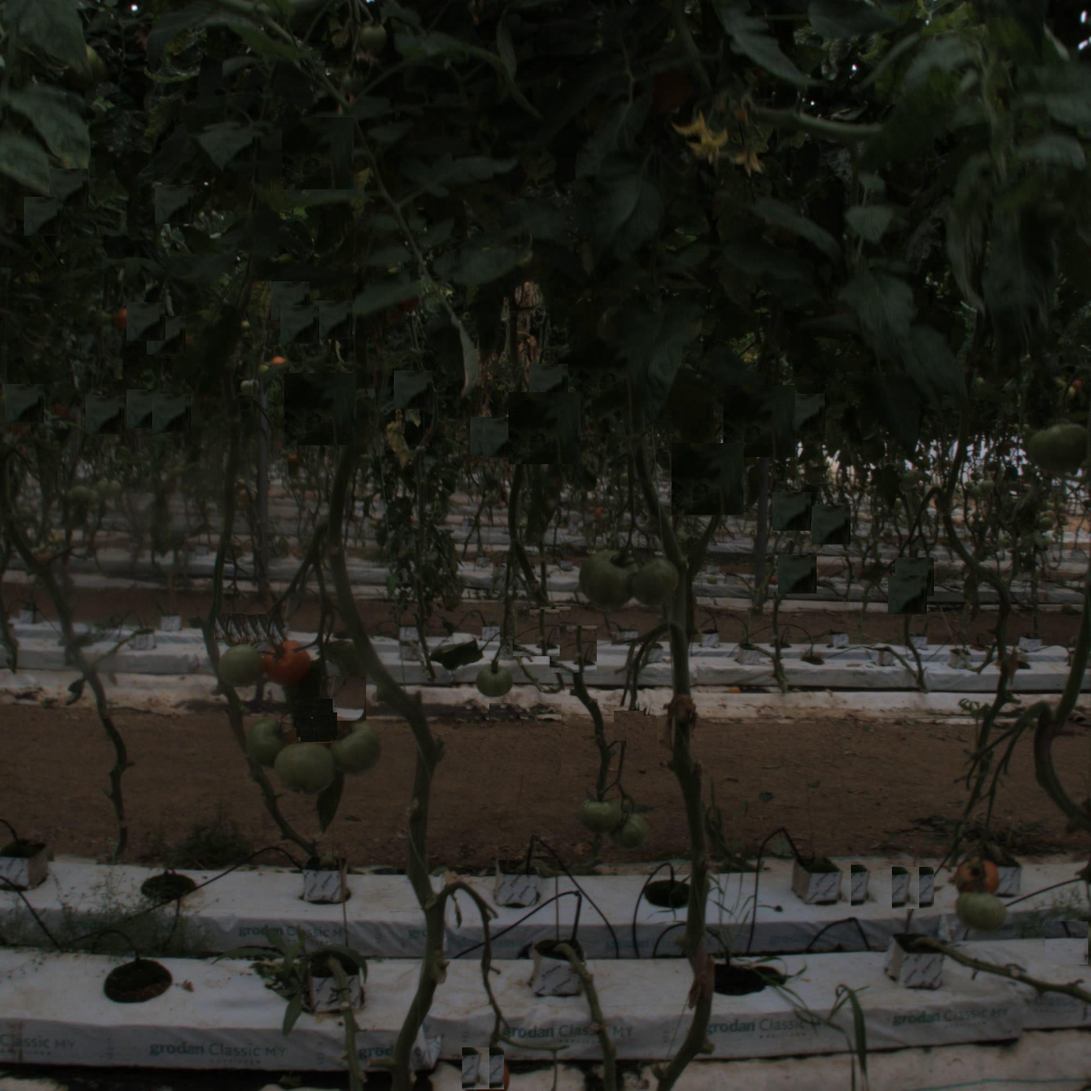fully-ripe: (268, 645, 313, 690)
semi-ripe: (955, 858, 999, 902)
unripe: (273, 737, 337, 801), (1031, 416, 1088, 473), (628, 557, 682, 612), (578, 550, 632, 605), (244, 710, 298, 765), (334, 726, 382, 774), (957, 891, 1002, 936), (599, 807, 644, 852), (579, 791, 624, 836), (221, 645, 261, 685), (477, 663, 512, 698)
